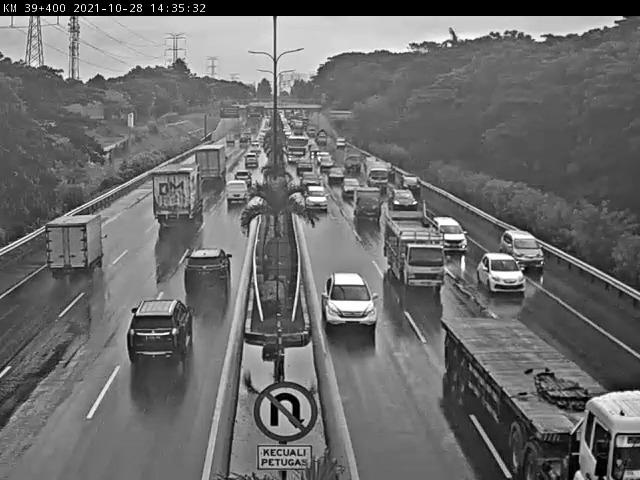big truck: (441, 319, 640, 480), (151, 165, 206, 227), (192, 145, 227, 186), (285, 135, 307, 162)
car: (127, 301, 193, 365), (323, 273, 376, 331), (185, 250, 231, 294), (478, 254, 525, 290), (500, 229, 541, 267), (431, 218, 463, 248), (356, 189, 381, 217), (305, 186, 329, 210), (222, 183, 247, 206), (395, 173, 419, 195), (387, 189, 413, 208), (341, 175, 359, 197), (231, 173, 252, 189), (243, 154, 260, 169), (296, 159, 312, 172), (302, 171, 318, 184), (321, 158, 334, 172), (328, 167, 341, 181), (316, 149, 327, 160)
small truck: (387, 213, 446, 287), (47, 215, 104, 275), (366, 161, 390, 187), (343, 149, 362, 171)
